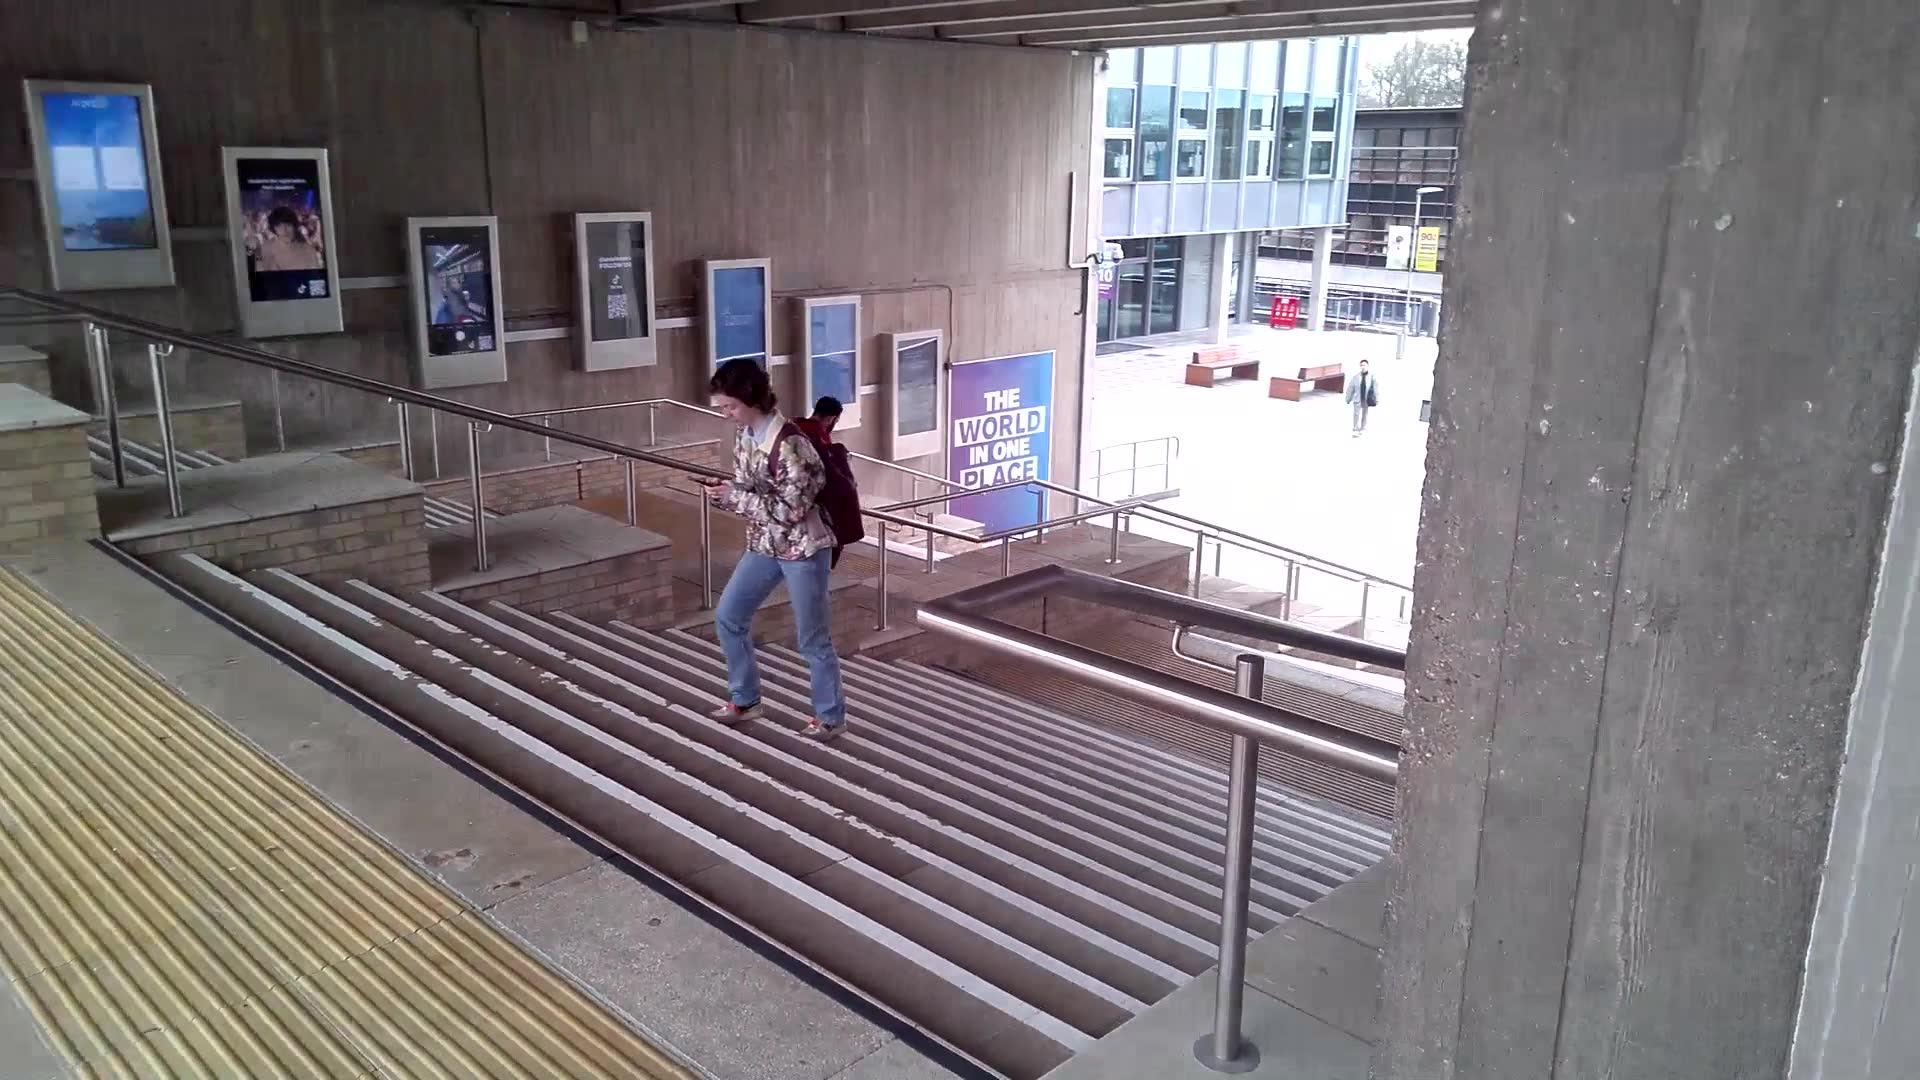Backpack: (809, 439, 872, 549)
Bench: (1272, 359, 1352, 411), (1177, 343, 1264, 389)
Person: (701, 355, 814, 743), (1344, 353, 1381, 442)
Stairs: (138, 582, 1414, 1073)
